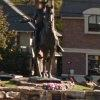Statue: (21, 1, 69, 80)
